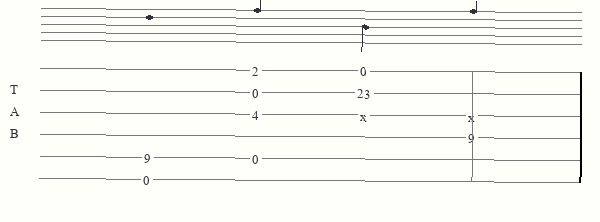0: (144, 174, 155, 187), (252, 152, 263, 165), (252, 86, 263, 99), (360, 64, 371, 77)
2: (252, 64, 263, 77)
23: (357, 86, 375, 99)
4: (252, 108, 263, 121)
9: (144, 152, 155, 165), (468, 130, 479, 143)
x: (360, 109, 371, 119), (468, 109, 479, 119)
